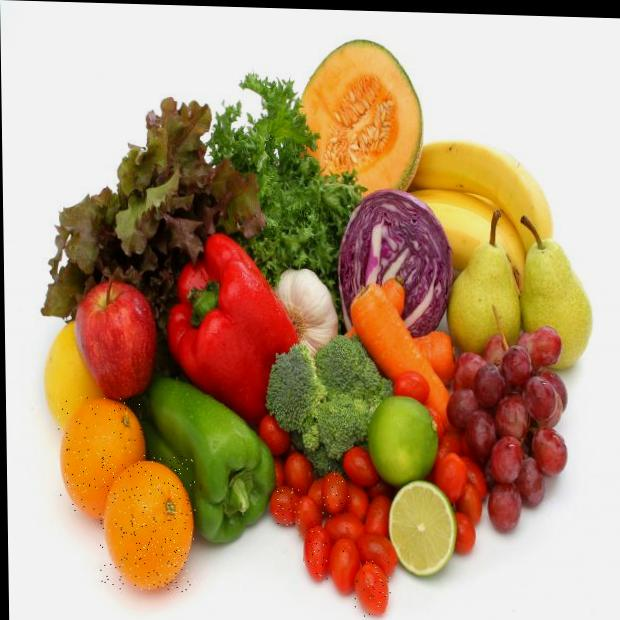Orange: (99, 454, 196, 593), (58, 393, 146, 518)
Tomato: (355, 559, 392, 619), (303, 526, 329, 584), (322, 466, 350, 517), (331, 520, 368, 553), (276, 488, 302, 526)
